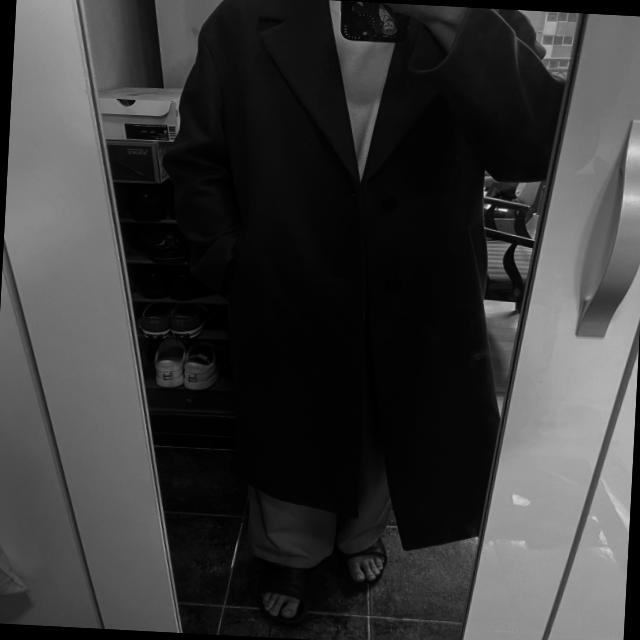coat: (143, 0, 569, 558)
